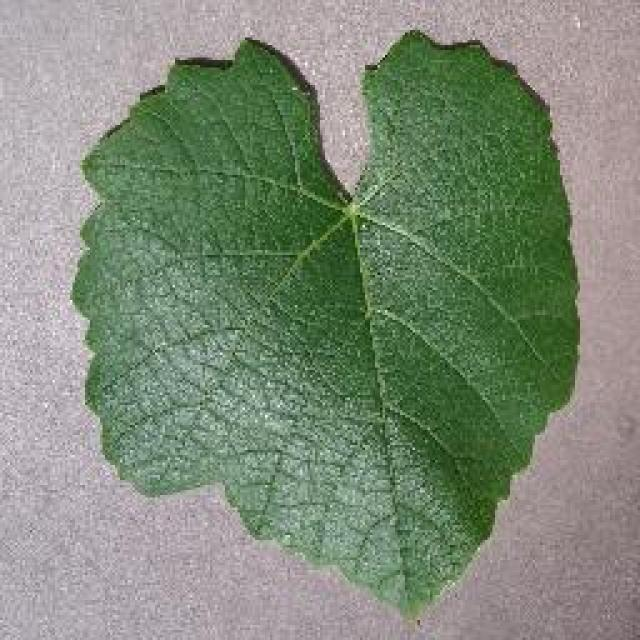Grape___healthy: (63, 15, 591, 633)
